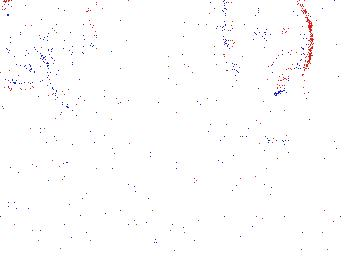moon jellyfish: (224, 1, 312, 96), (205, 82, 292, 141), (1, 1, 100, 52), (1, 16, 51, 91), (314, 50, 346, 143)
